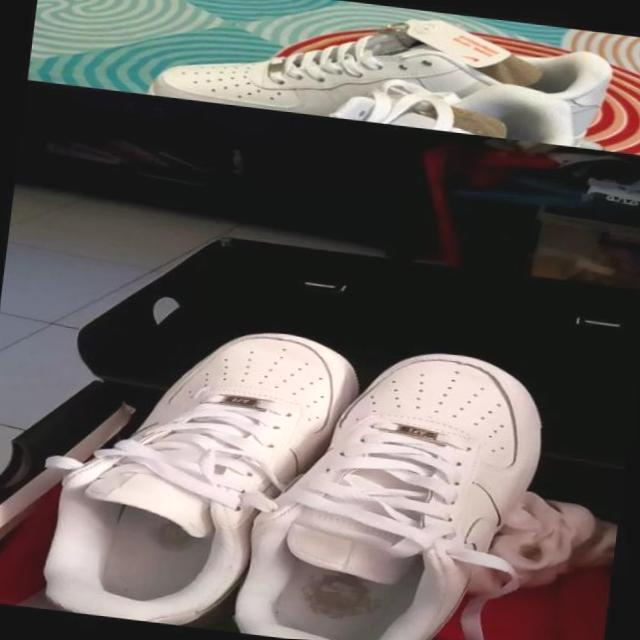nike_fake_airforce: (28, 305, 364, 640), (224, 329, 557, 640)
